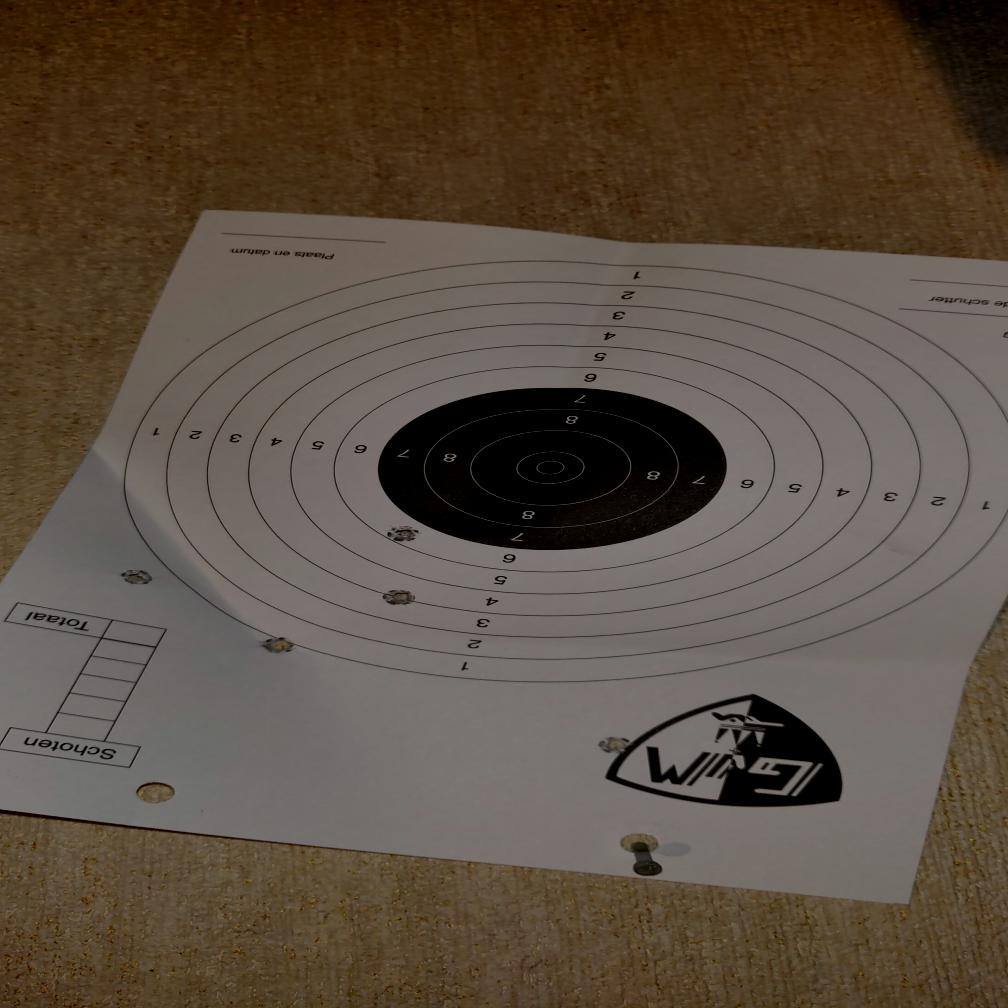0: (597, 736, 635, 754), (120, 570, 153, 584)
1: (256, 637, 295, 654)
4: (380, 590, 416, 606)
6: (385, 526, 422, 542)
Target: (112, 260, 1005, 683)
black_contour: (378, 387, 725, 551)
